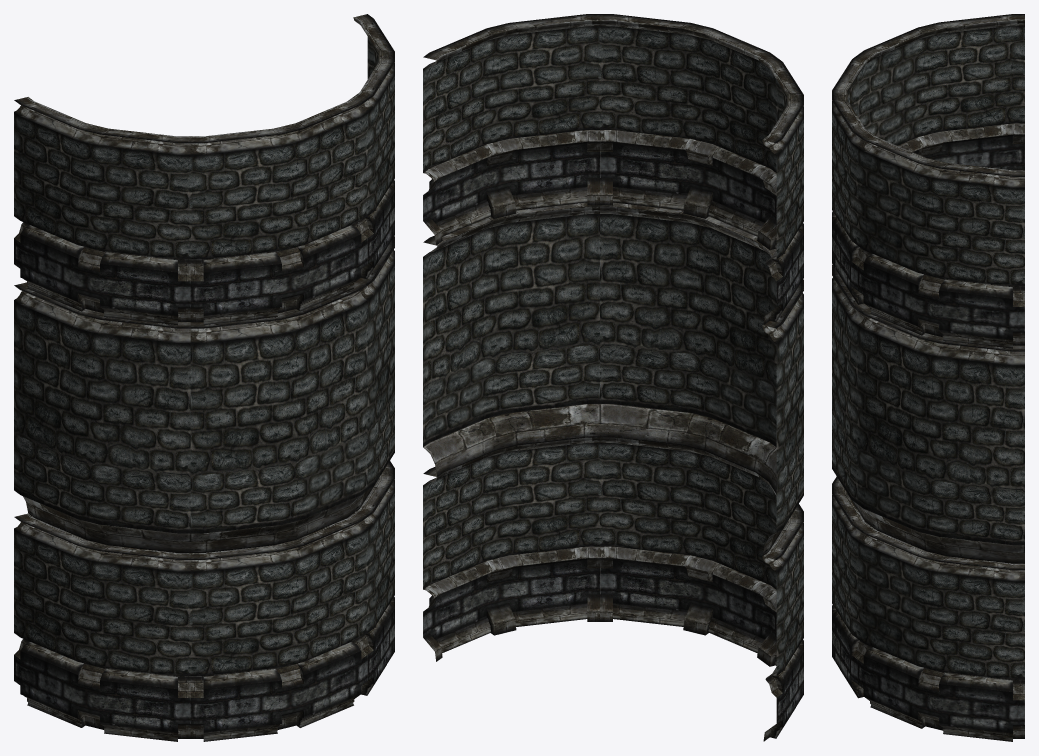
Rendered from default_ushape02.DAE.
3 renders of one model, left to right at view 1: azimuth 30°, elevation 25°; view 2: azimuth 150°, elevation 25°; view 3: azimuth 270°, elevation 25°, orthographic. The views are drawn at different scales.
Visible parts, largest first — view 1: Object080, Object081; view 2: Object080, Object081; view 3: Object080, Object081.
Part boxes in pixels (x1,y1,x2,y2): Object080: (14, 14, 394, 741); Object081: (14, 236, 394, 552); Object080: (423, 14, 803, 741); Object081: (423, 202, 803, 556); Object080: (832, 14, 1024, 741); Object081: (832, 264, 1024, 563).
Size of the model in its own units: 8 by 13.01 by 4.
